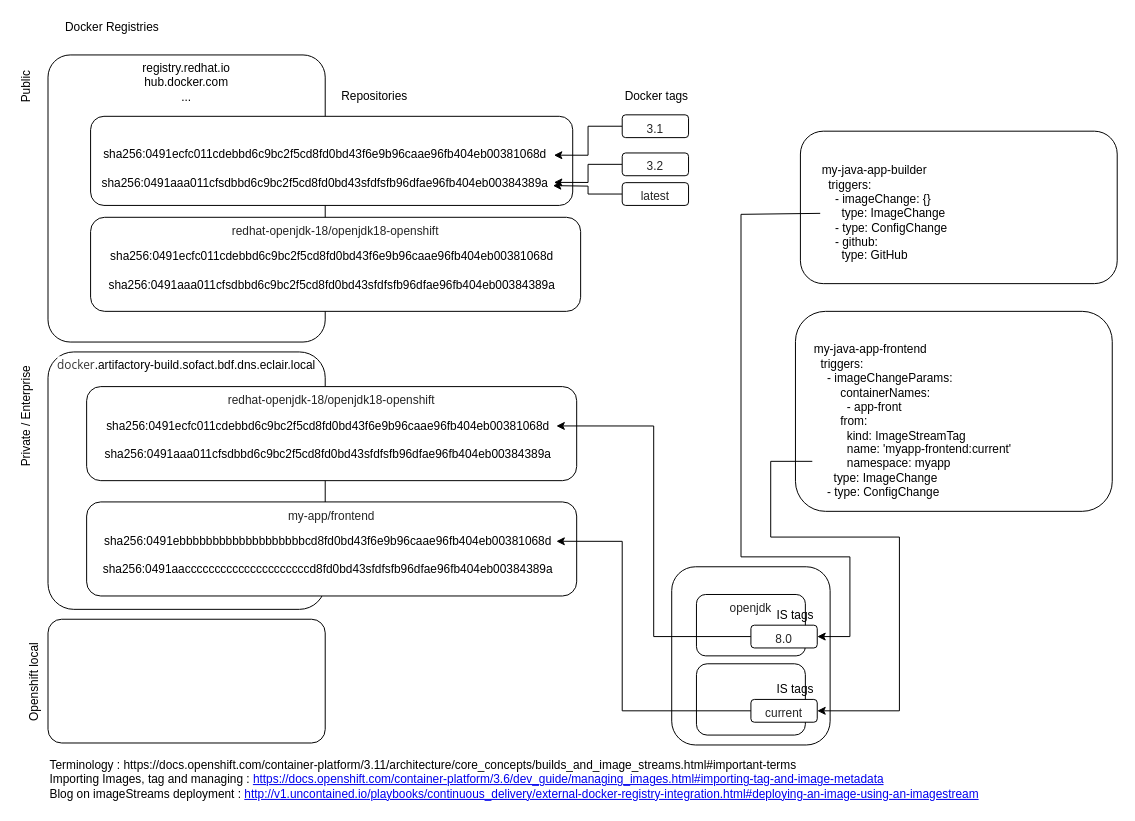
Image size: 1135x821. Some labels were removed from this diagram. The shapes that lost their labels are listed below. From the top down, each one's box as (x1, y1, x2, y2) in pixels, then its label:
(90, 115, 573, 205): mysql
(799, 130, 1117, 284): BuildConfig
(794, 310, 1112, 511): DeploymentConfig
(671, 566, 830, 745): ImageStreams
(47, 618, 325, 743): docker-registry.default.svc:5000
(695, 663, 805, 735): myapp-frontend
